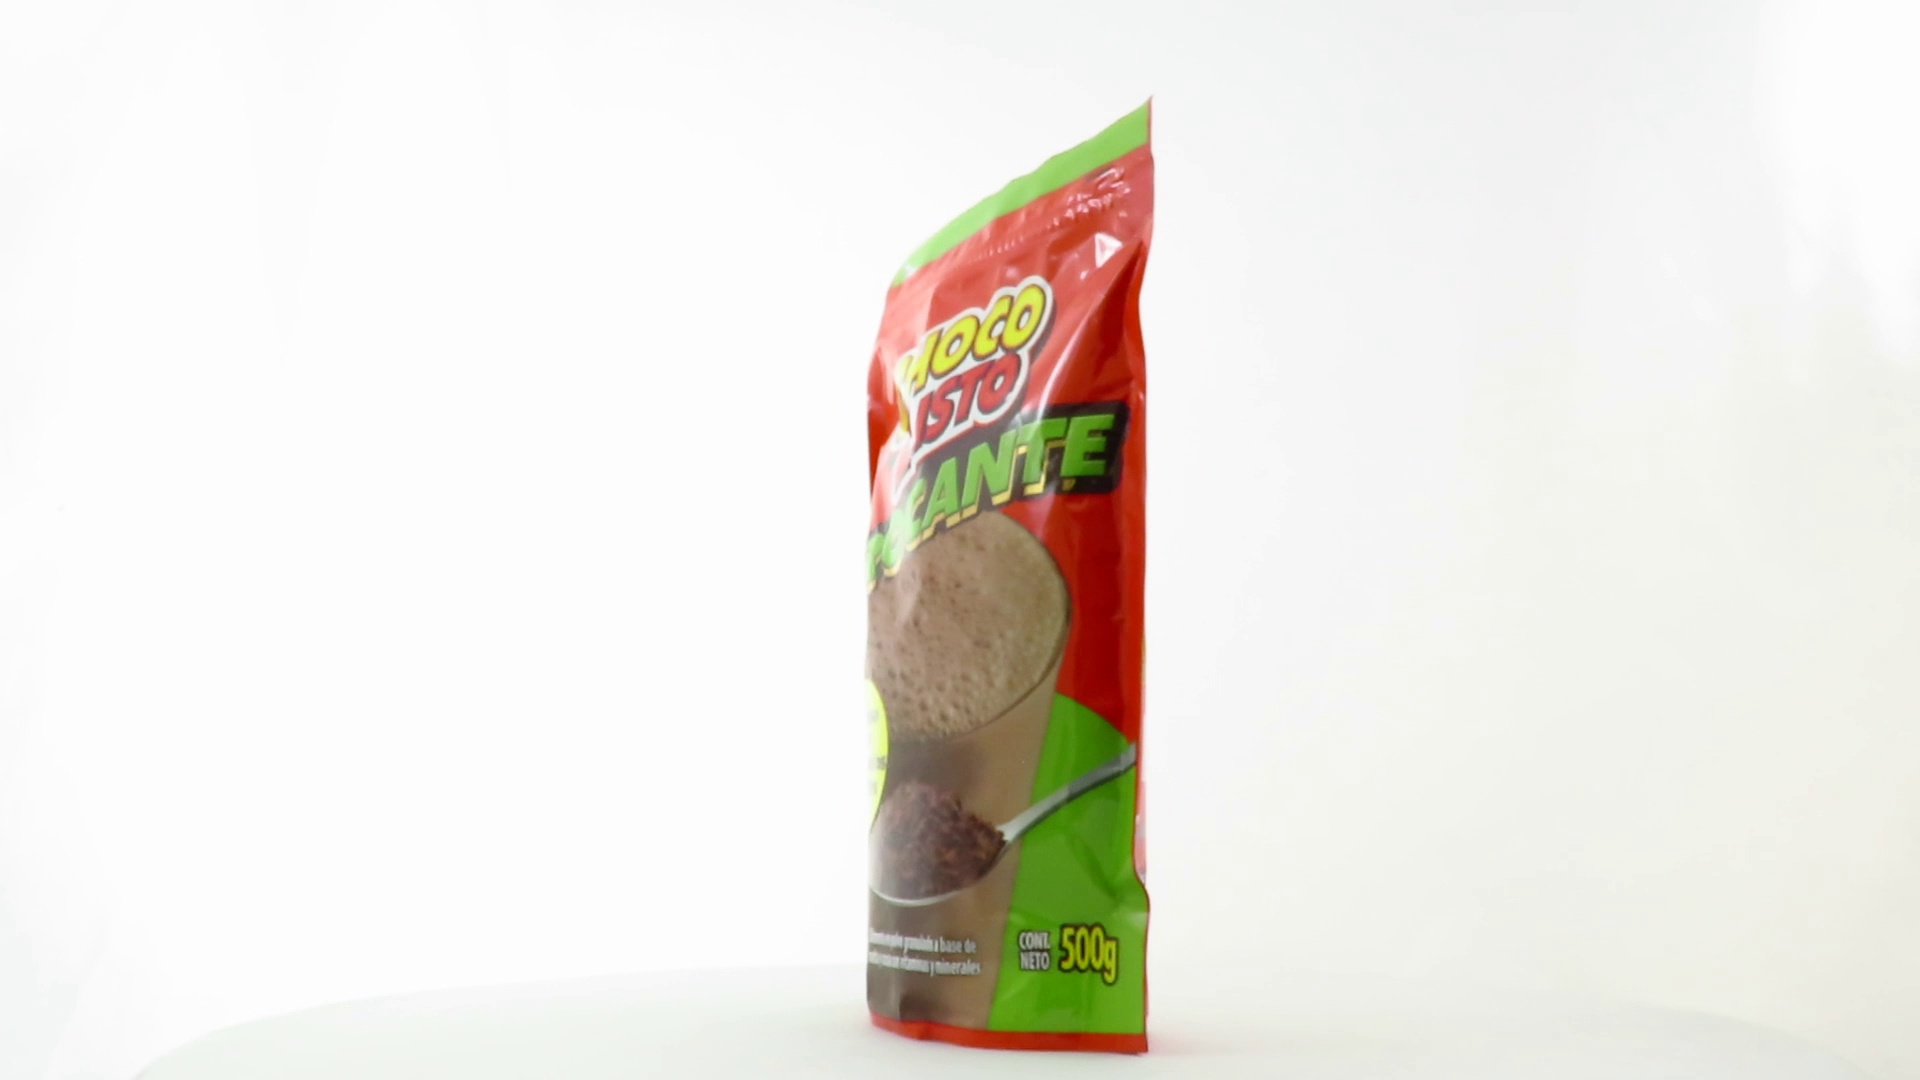COL0170102DYP50000: (858, 90, 1160, 1062)
